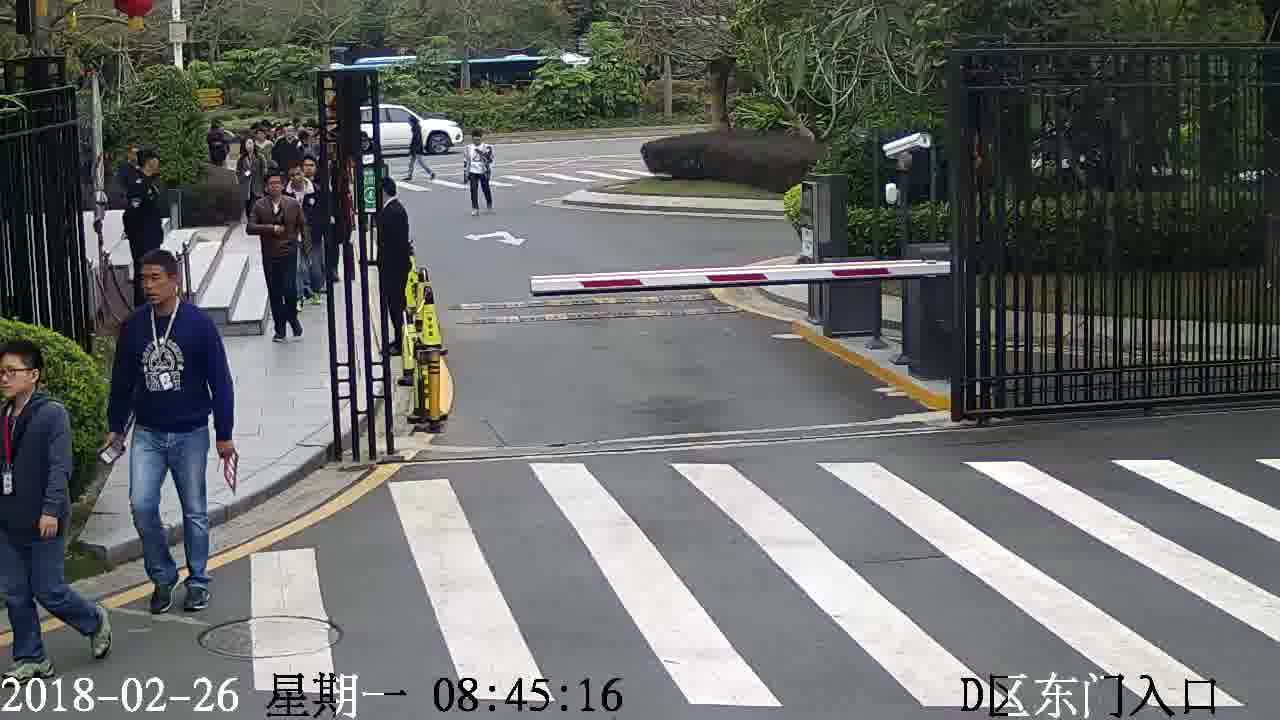face: (3, 351, 35, 400), (135, 265, 175, 304)
person: (123, 245, 216, 341), (1, 338, 69, 430), (250, 168, 302, 213), (128, 149, 167, 194), (375, 175, 408, 224), (295, 153, 326, 195), (117, 137, 147, 177), (234, 137, 265, 168), (465, 128, 496, 152), (273, 121, 301, 147)
